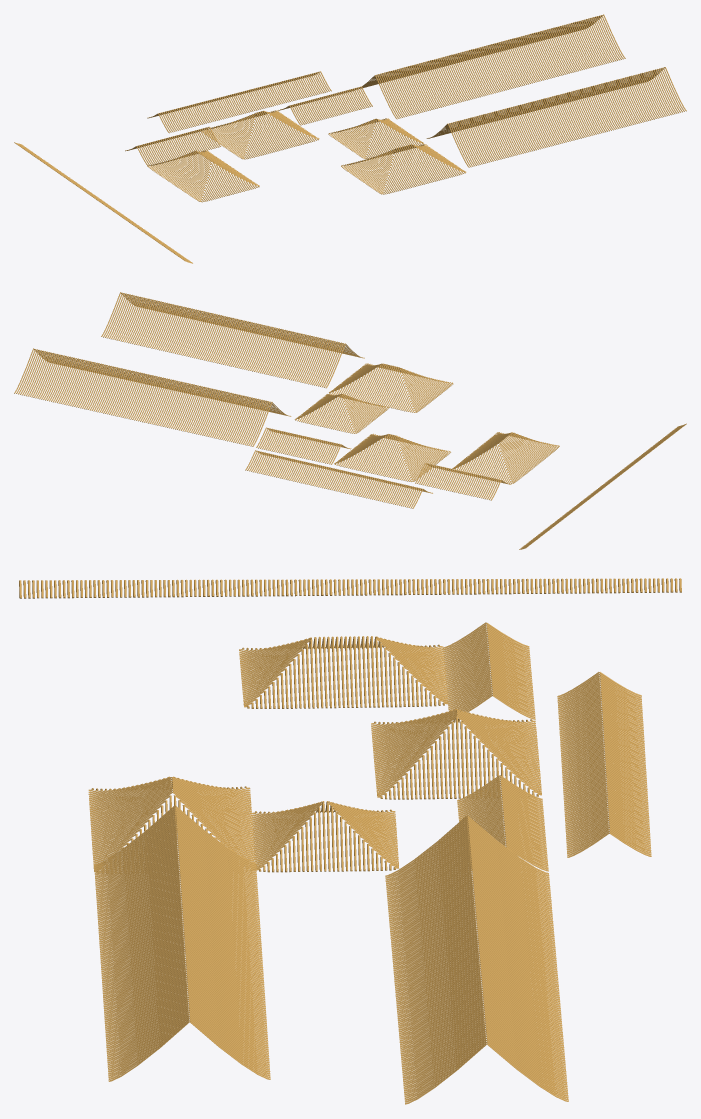
The model's file is roof-tiles-5-1.glb.
3 renders of one model, top to bottom at view 1: azimuth 30°, elevation 25°; view 2: azimuth 150°, elevation 25°; view 3: azimuth 270°, elevation 25°, orthographic. The views are drawn at different scales.
Parts seen in each view (by area): view 1: roof-tiles-5-1_micro_Roof_Glazed_Ochre; view 2: roof-tiles-5-1_micro_Roof_Glazed_Ochre; view 3: roof-tiles-5-1_micro_Roof_Glazed_Ochre.
Part boxes in pixels (box(x1,y1,x2,y2)): roof-tiles-5-1_micro_Roof_Glazed_Ochre: box(14, 14, 686, 263); roof-tiles-5-1_micro_Roof_Glazed_Ochre: box(14, 292, 686, 549); roof-tiles-5-1_micro_Roof_Glazed_Ochre: box(19, 578, 681, 1104).
Bounding box in the file's own units: 1.14 × 0.0805 × 0.6029.
